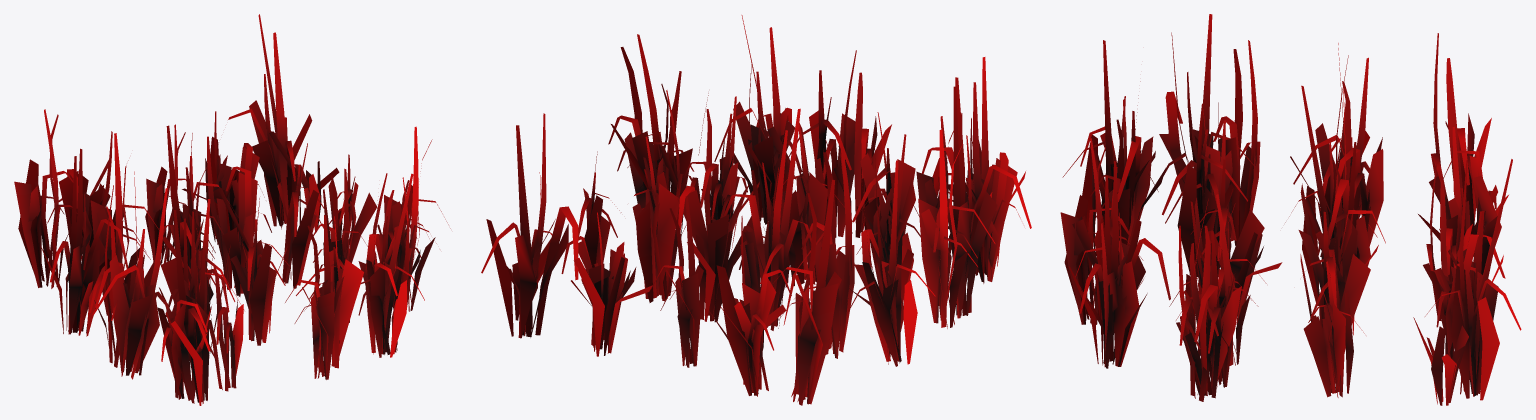
File: SM_Rice_1.fbx
3 renders of one model, left to right at view 1: azimuth 30°, elevation 25°; view 2: azimuth 150°, elevation 25°; view 3: azimuth 270°, elevation 25°, orthographic. The views are drawn at different scales.
Parts seen in each view (by area): view 1: SM_Rice_1; view 2: SM_Rice_1; view 3: SM_Rice_1.
Boxes of the visible parts, x1,y1,x2,y2 form: SM_Rice_1: [14, 14, 450, 405]; SM_Rice_1: [481, 15, 1031, 405]; SM_Rice_1: [1060, 14, 1521, 405].
Size of the model in its own units: 1.29 by 0.686 by 1.22.
